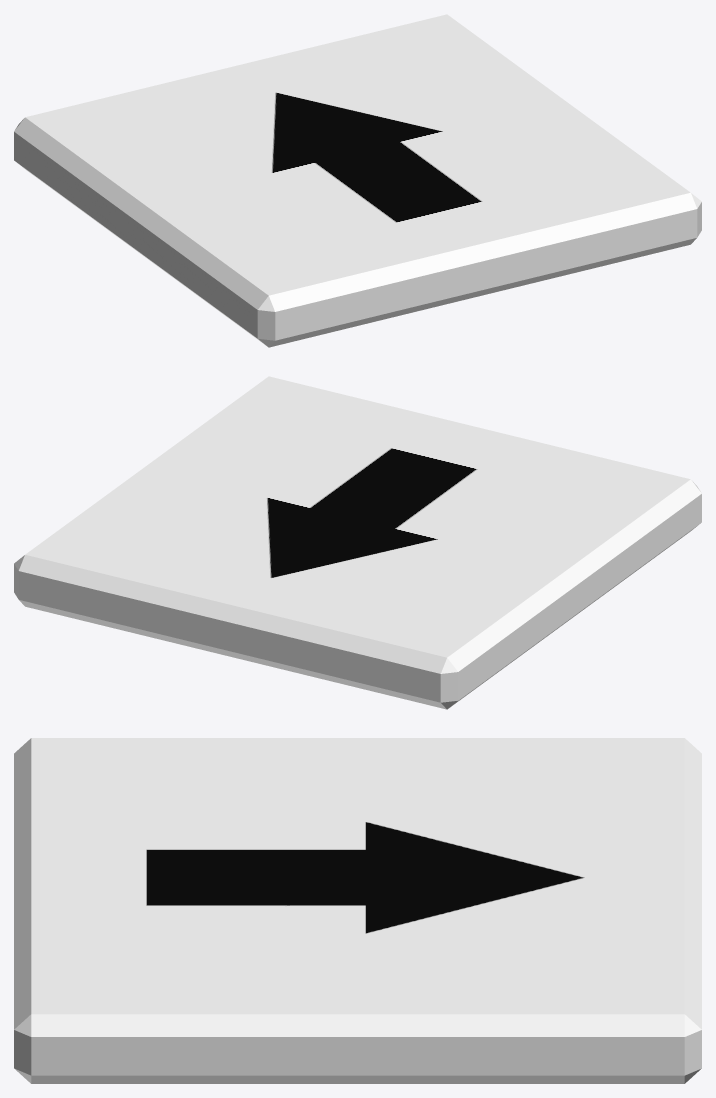
File: AR_Button.fbx
3 renders of one model, top to bottom at view 1: azimuth 30°, elevation 25°; view 2: azimuth 150°, elevation 25°; view 3: azimuth 270°, elevation 25°, orthographic. The views are drawn at different scales.
Parts seen in each view (by area): view 1: Cube; view 2: Cube; view 3: Cube.
Boxes of the visible parts, <box> form: Cube: <box>14,14,701,347</box>; Cube: <box>14,376,701,709</box>; Cube: <box>14,738,701,1083</box>.
Size of the model in its own units: 200 by 22.36 by 200.
Materials: 1 (1 with a texture image).
